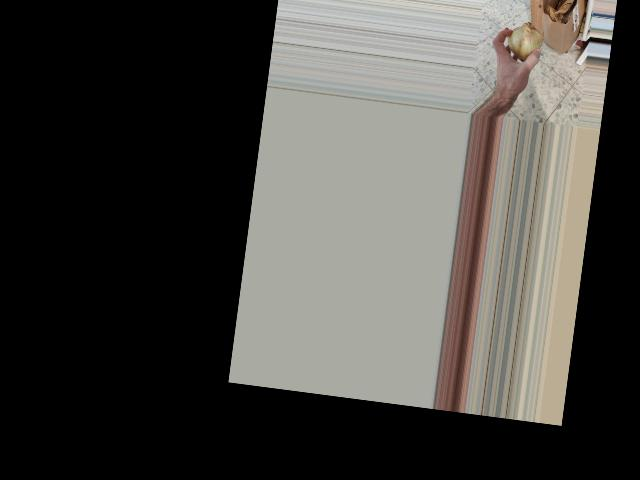onion: (502, 18, 546, 67)
